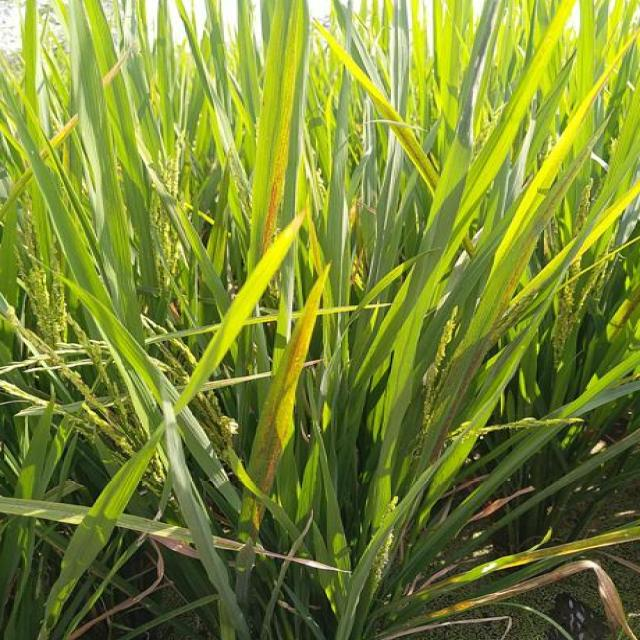Leaf Streak: (430, 146, 590, 463), (245, 264, 330, 499), (320, 31, 438, 196), (262, 111, 289, 253), (246, 499, 266, 545)
